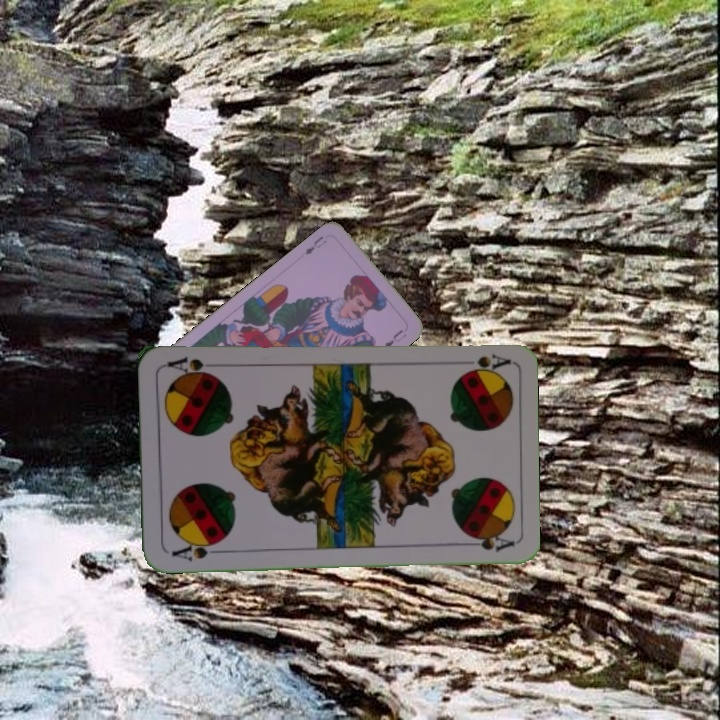EU: (300, 232, 330, 257)
SA: (168, 537, 224, 564), (460, 350, 511, 375)
